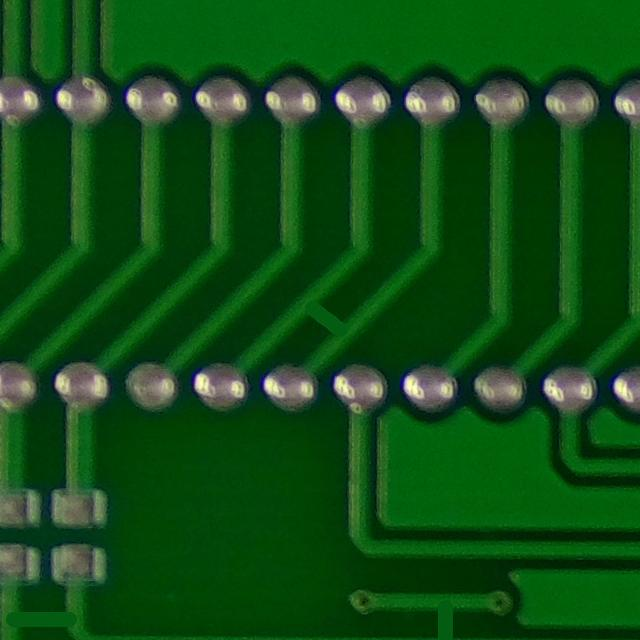short: (279, 289, 361, 351)
